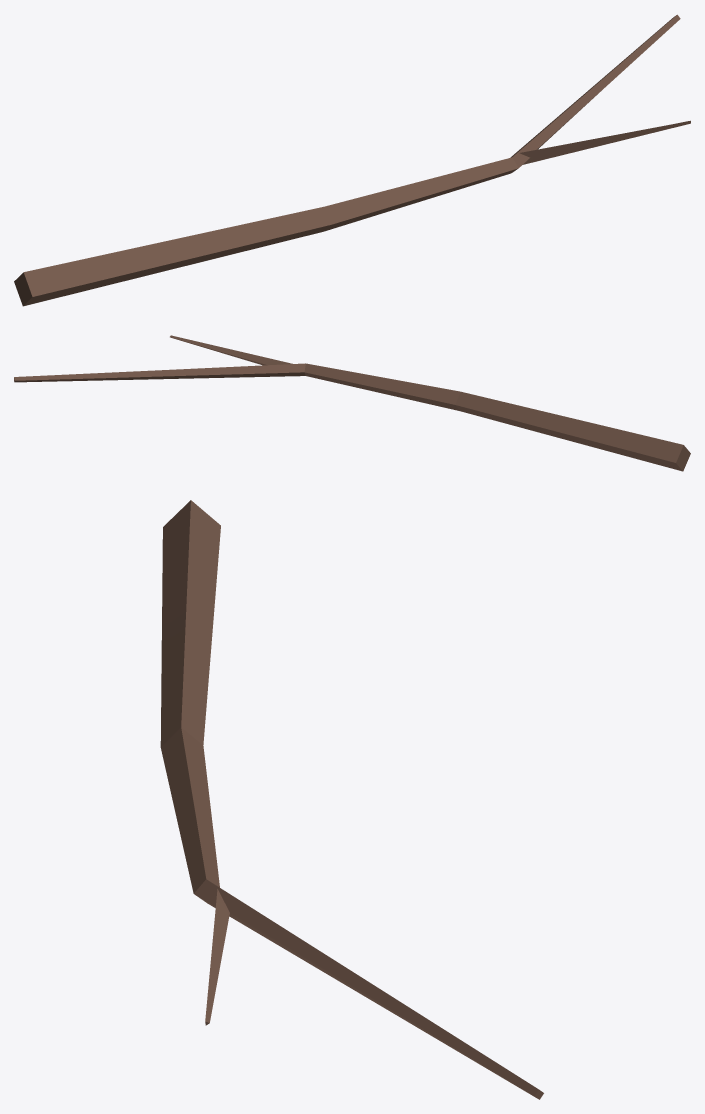
File: SM_Stick_02.fbx
3 renders of one model, top to bottom at view 1: azimuth 30°, elevation 25°; view 2: azimuth 150°, elevation 25°; view 3: azimuth 270°, elevation 25°, orthographic. The views are drawn at different scales.
Visible parts, largest first — view 1: SM_Stick_02; view 2: SM_Stick_02; view 3: SM_Stick_02.
Part boxes in pixels (x1=…): SM_Stick_02: x1=14, y1=14, x2=690, y2=306; SM_Stick_02: x1=14, y1=335, x2=690, y2=471; SM_Stick_02: x1=160, y1=500, x2=543, y2=1099.
Size of the model in its own units: 92.69 by 4 by 26.35.
